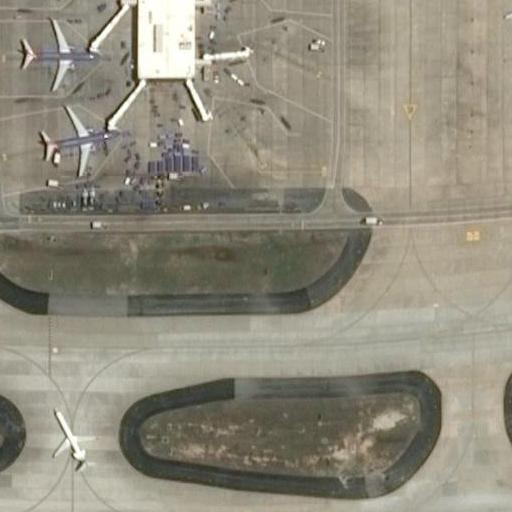Aircraft: (9, 9, 114, 95), (23, 106, 118, 183), (37, 400, 103, 480), (503, 0, 512, 49)
